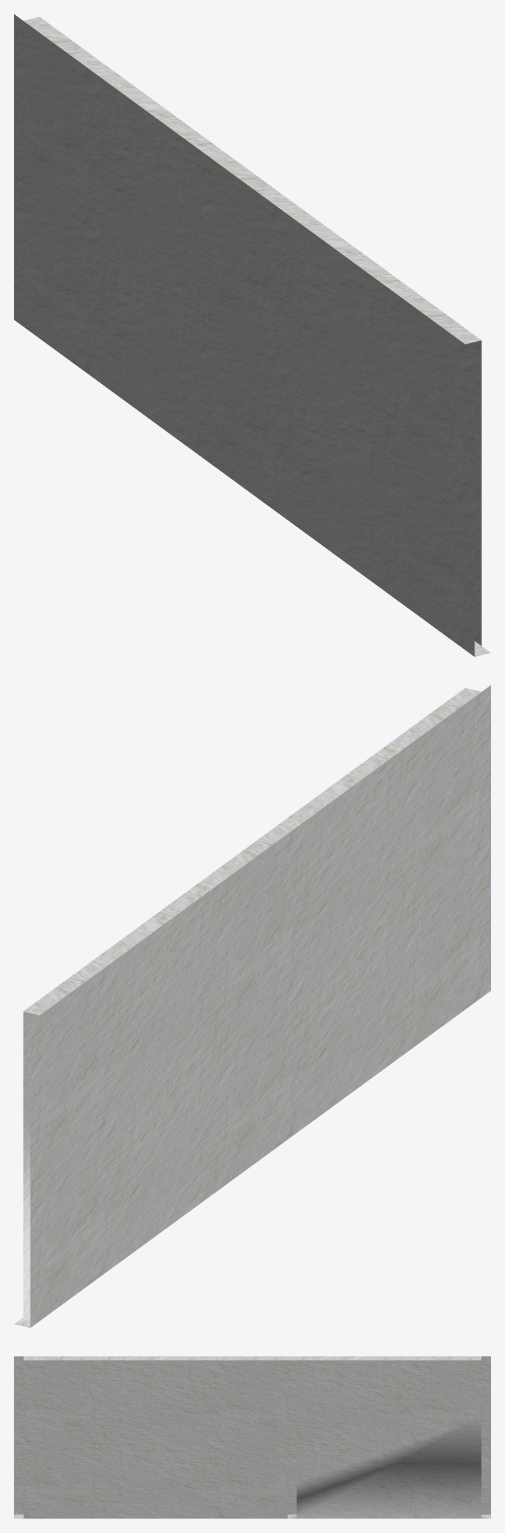
Rendered from wall_09.obj.
The picture shows the model from 3 angles, top to bottom: view 1: azimuth 30°, elevation 25°; view 2: azimuth 150°, elevation 25°; view 3: azimuth 270°, elevation 25°; orthographic projection. The views are drawn at different scales.
Parts seen in each view (by area): view 1: Cube.001; view 2: Cube.001; view 3: Cube.001.
Part boxes in pixels (bbox=[...]): Cube.001: bbox=[14, 14, 490, 656]; Cube.001: bbox=[14, 685, 490, 1327]; Cube.001: bbox=[14, 1356, 490, 1518].
Size of the model in its own units: 0.2873 by 5.13 by 14.
Materials: 1 (1 with a texture image).
